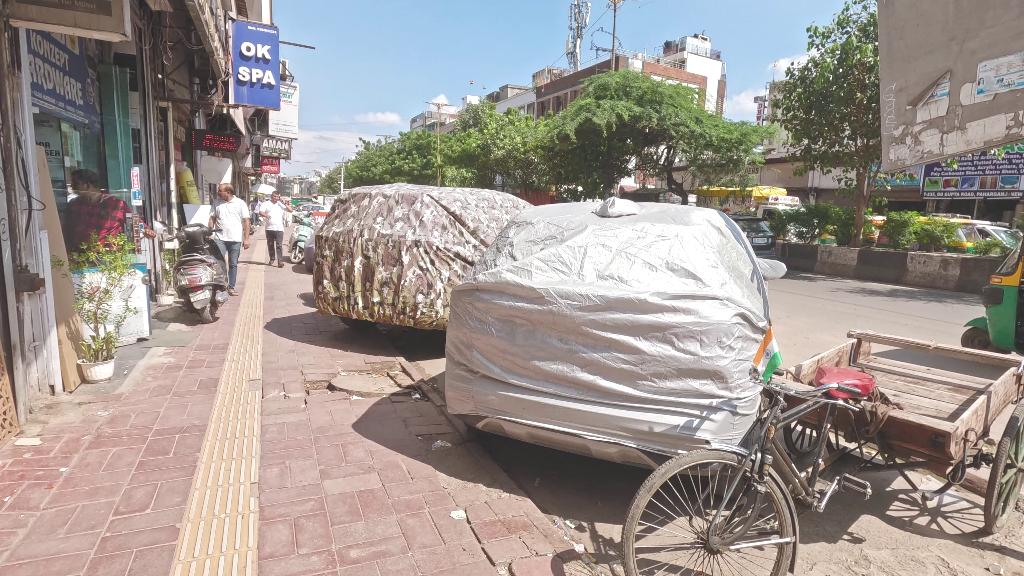garbage: (451, 507, 465, 520), (435, 436, 450, 448)
